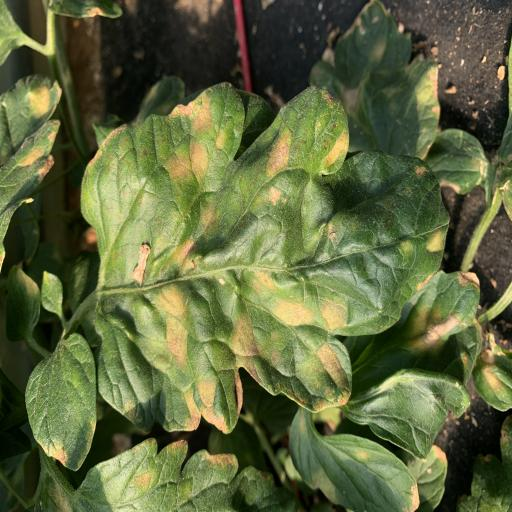disease_tomato: (80, 82, 448, 434), (290, 408, 420, 512), (24, 332, 98, 471)
